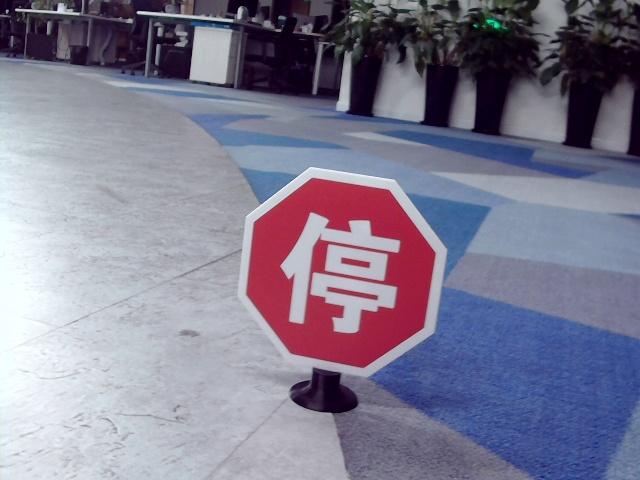stop: (279, 205, 400, 331)
